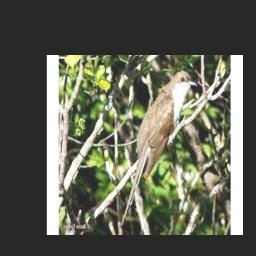Cuckoo: (121, 70, 198, 226)
